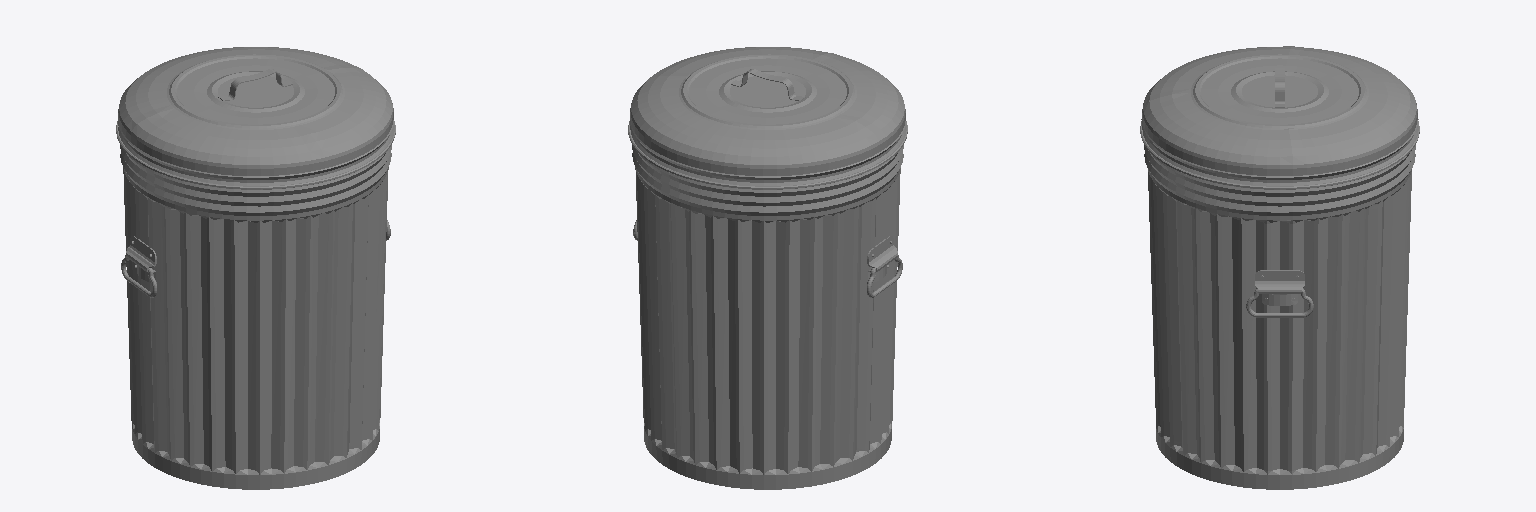
Rendered from trashcan_quads.obj.
The picture shows the model from 3 angles: view 1: azimuth 30°, elevation 25°; view 2: azimuth 150°, elevation 25°; view 3: azimuth 270°, elevation 25°; orthographic projection.
Parts seen in each view (by area): view 1: trashcan_quads, lid; view 2: trashcan_quads, lid; view 3: trashcan_quads, lid.
Boxes of the visible parts, x1=… form: trashcan_quads: x1=120, y1=145, x2=391, y2=489; lid: x1=116, y1=47, x2=395, y2=189; trashcan_quads: x1=632, y1=145, x2=903, y2=489; lid: x1=628, y1=47, x2=907, y2=189; trashcan_quads: x1=1144, y1=145, x2=1415, y2=489; lid: x1=1140, y1=46, x2=1419, y2=189.
Bounding box in the file's own units: 45.96 × 65.79 × 45.96.